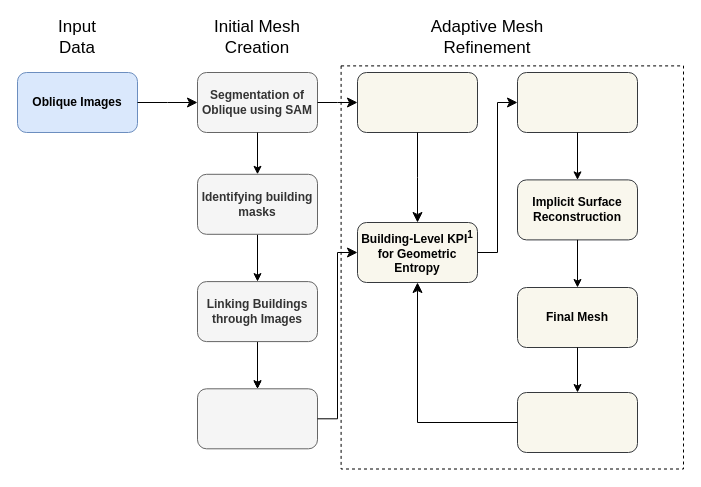
Some shapes in this 701 by 487 pixel diagram are drawn without their labels. The centre of each missing label's shape, as x and y in pixels:
"KPI 2 on Mesh Quality" goes at (x=577, y=422).
"Segment on Building Level using SAM" goes at (x=417, y=102).
"Sparse Point Cloud Creation" goes at (x=257, y=418).
"Targeted Point Addition based on KPI 1" goes at (x=577, y=102).
